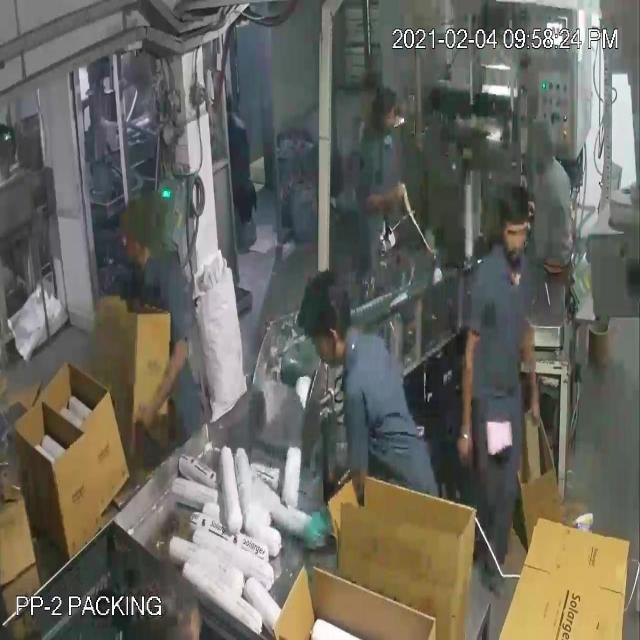No_Gloves: (28, 39, 532, 394)
